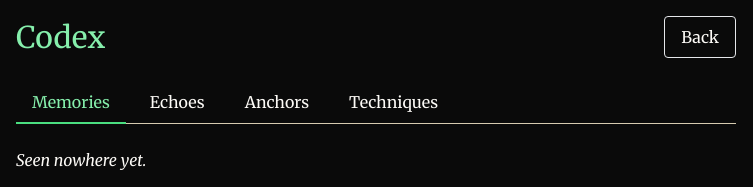
Phase 2B-3: CodexScreen Techniques tab › renders an empty-state message when no techniques in registry
Step 1. Click the tab "techniques" → (394, 103), box [333,82,454,124]
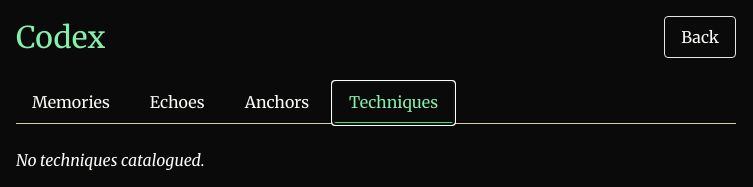
Expected: the text "No techniques catalogued." is shown, [16,150,204,170]
